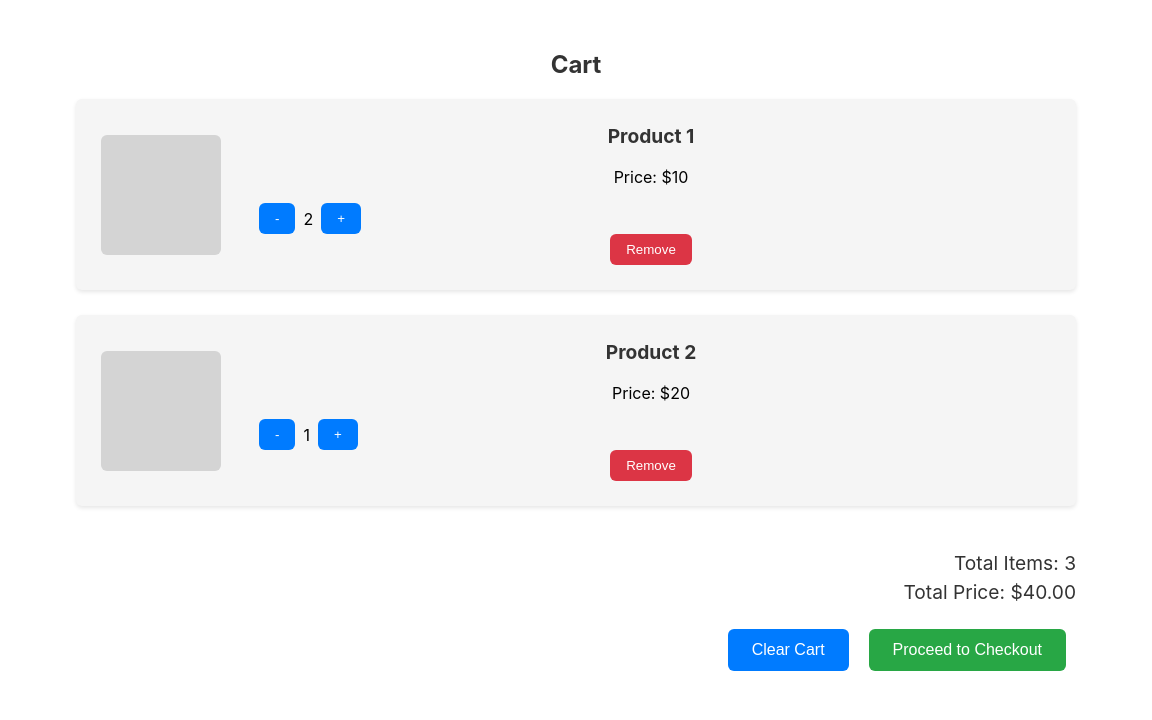
Test: Cart component › removes a cart item
The image size is (1152, 720).
Click the button "Remove" below "10".
click(651, 250)  # box [610,234,692,265]
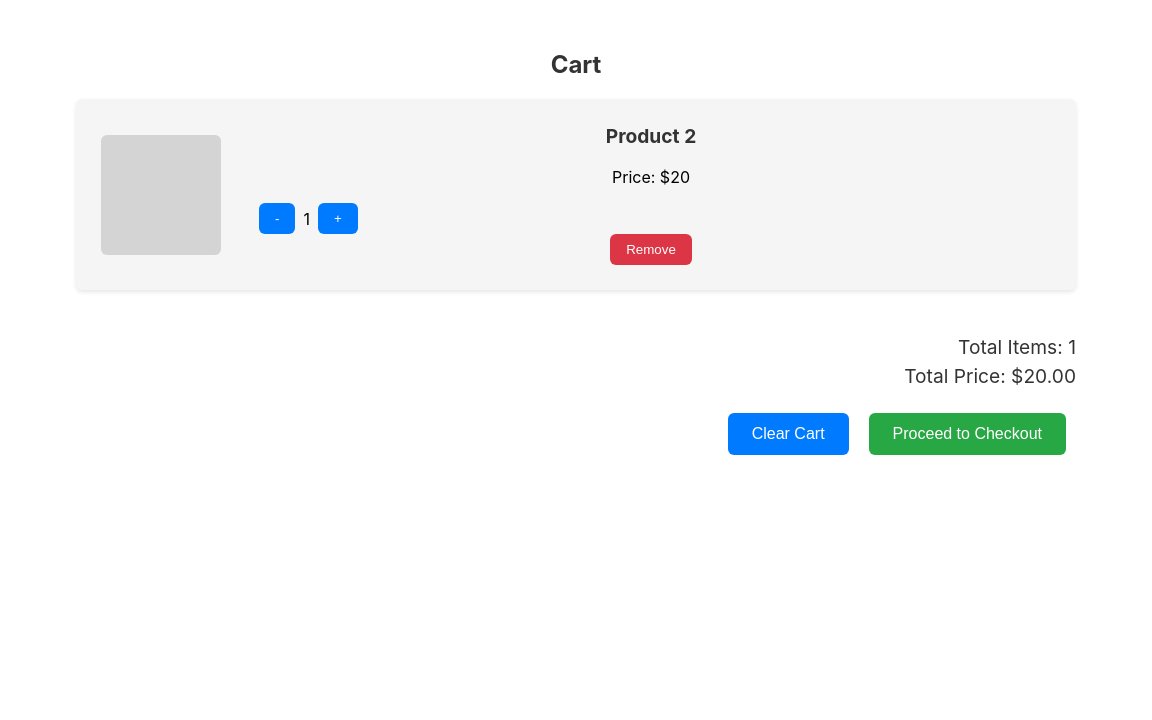
Check: the heading "Product 2" is shown, box [606,124,696,148]
Check: the heading "Product 1" is gone
